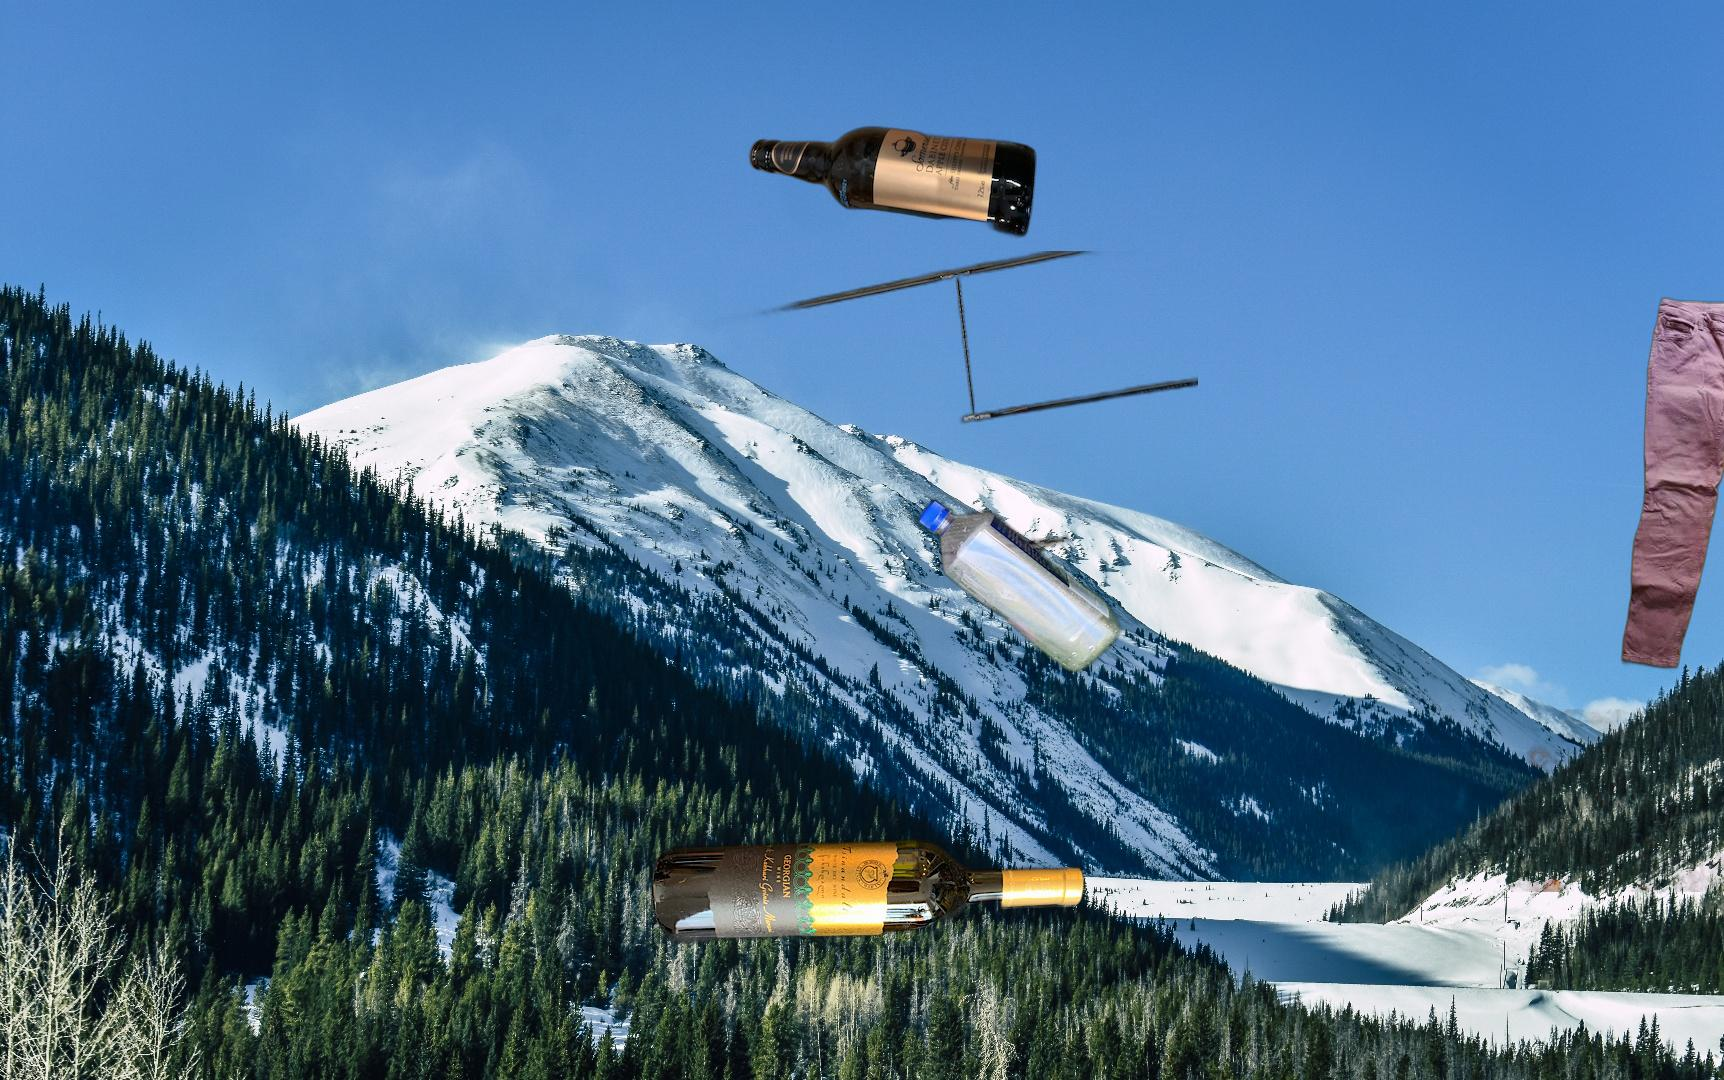biological: (1511, 709, 1724, 892)
clothes: (1618, 292, 1724, 681)
glass: (634, 832, 1088, 1080), (745, 124, 1040, 240)
plastic-bottles: (687, 251, 1198, 934)
